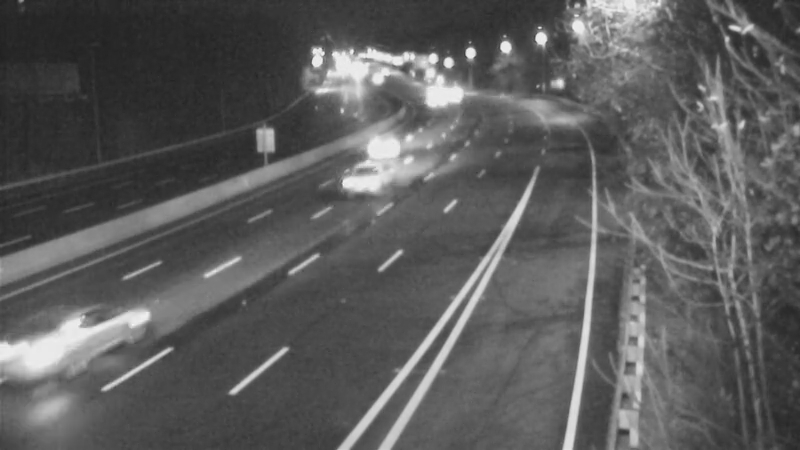vehicle: (16, 290, 126, 400), (336, 141, 416, 221), (410, 76, 460, 126), (354, 122, 404, 172)
